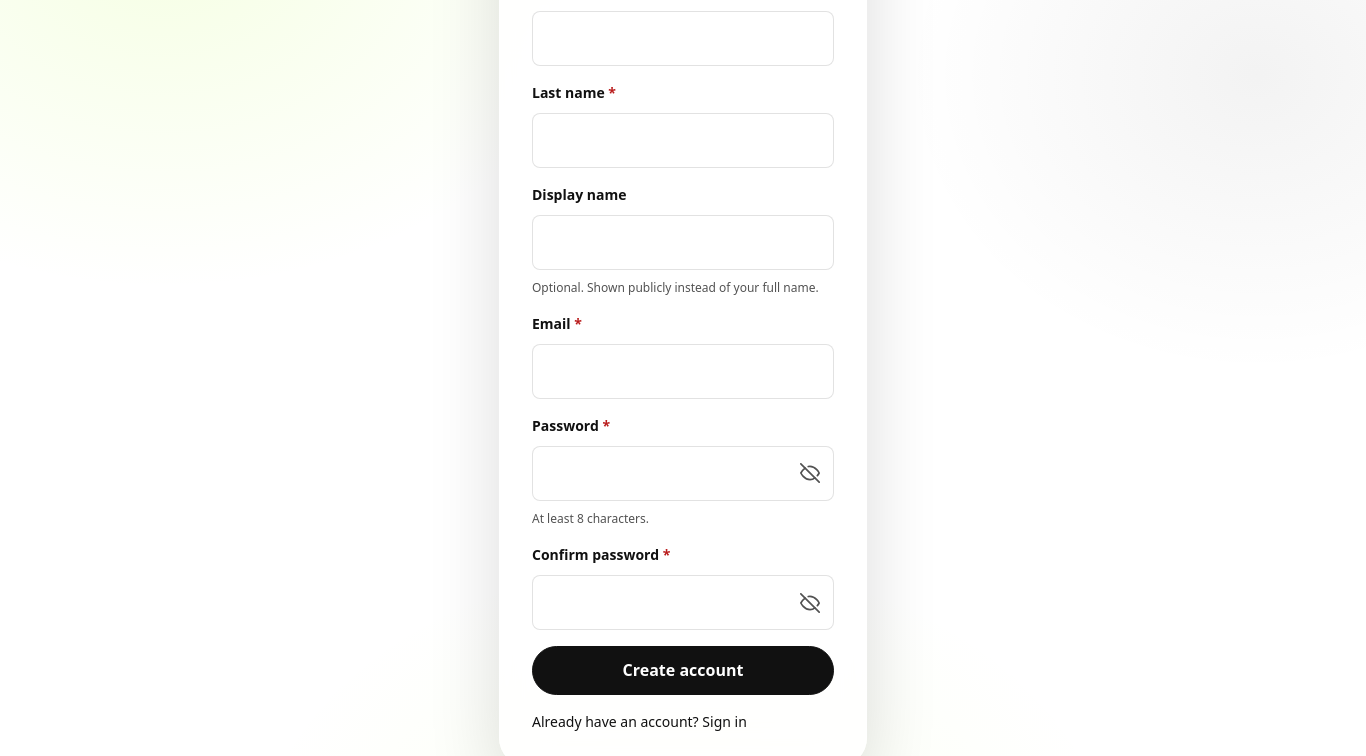
Test: RegisterPage password visibility toggle › password matching validation still works after toggling visibility
(page scrolled)
Type "abc12345" into the password field labelled "Password *" at (683, 474), box top-left (532, 446), bottom-right (834, 501)
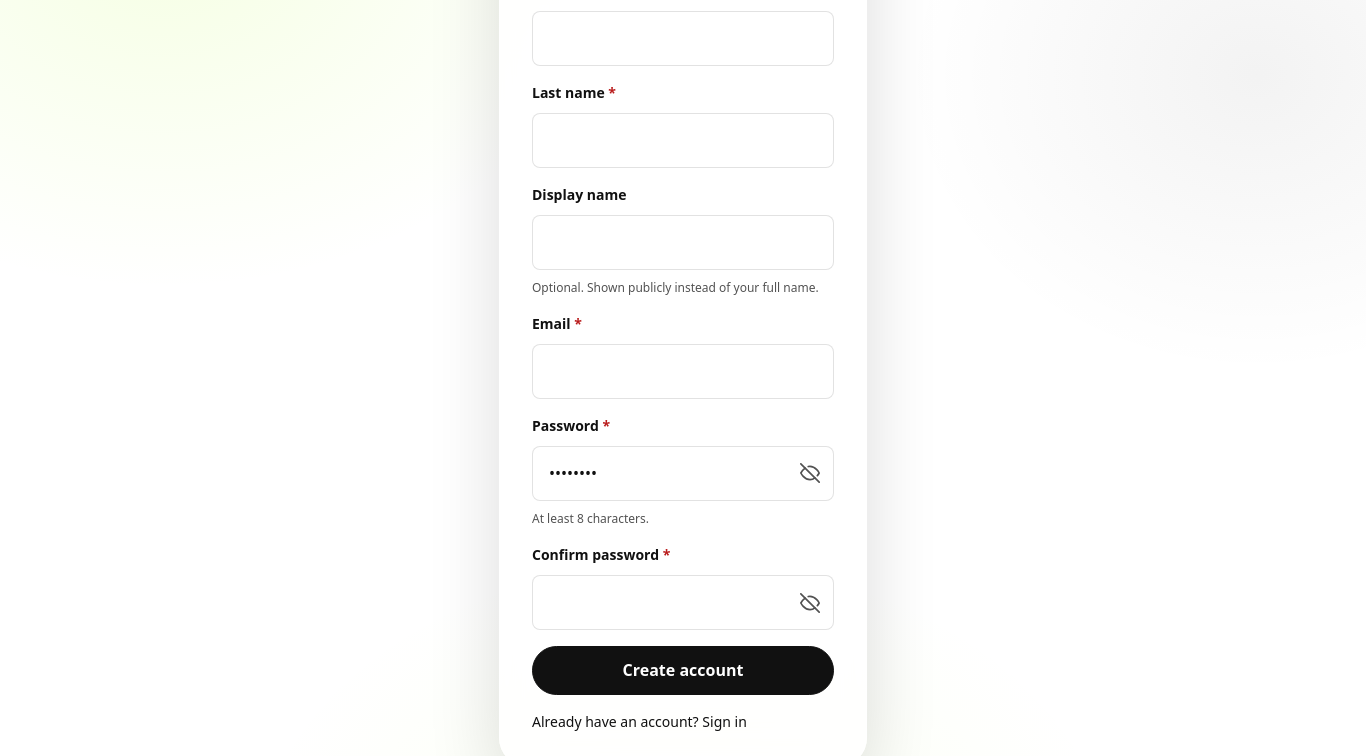
Type "xyz99999" into the password field labelled "Confirm password *" at (683, 603), box top-left (532, 575), bottom-right (834, 630)
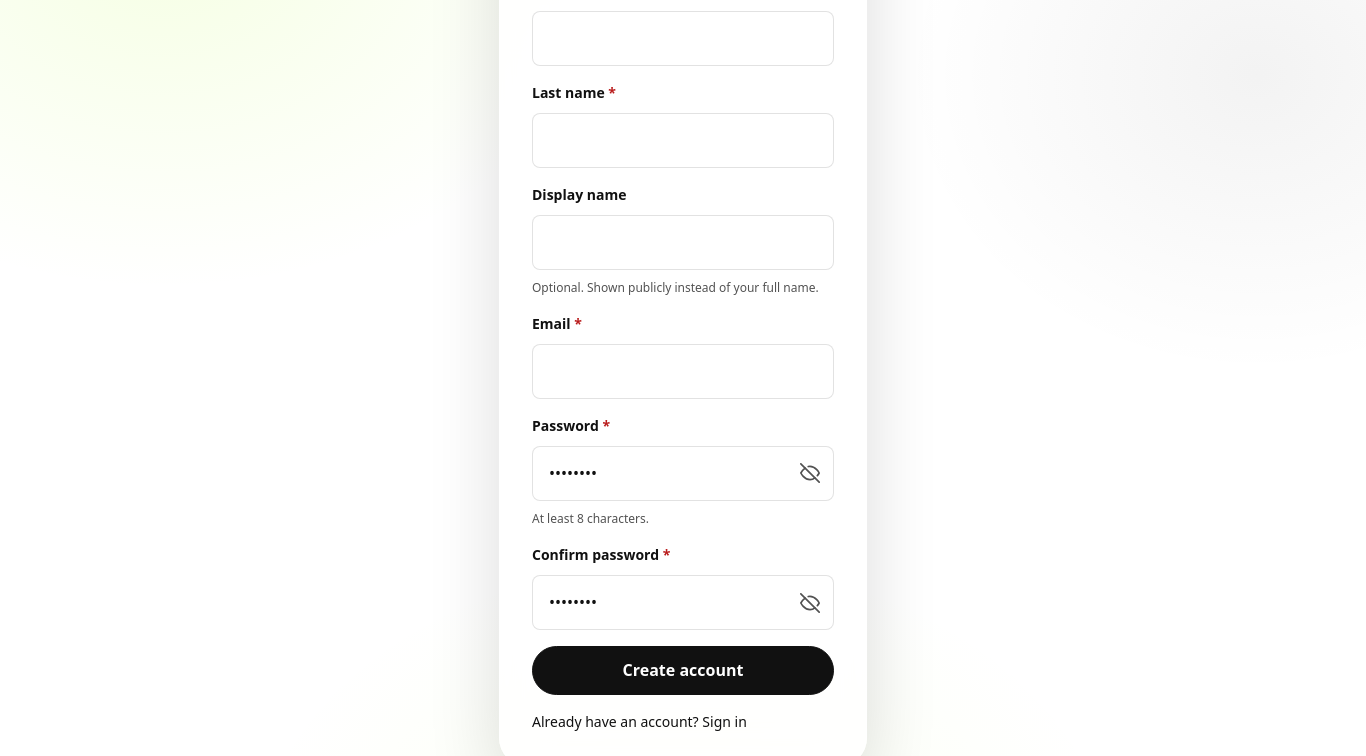
Click the button "Create account" at (683, 671), box top-left (532, 646), bottom-right (834, 695)
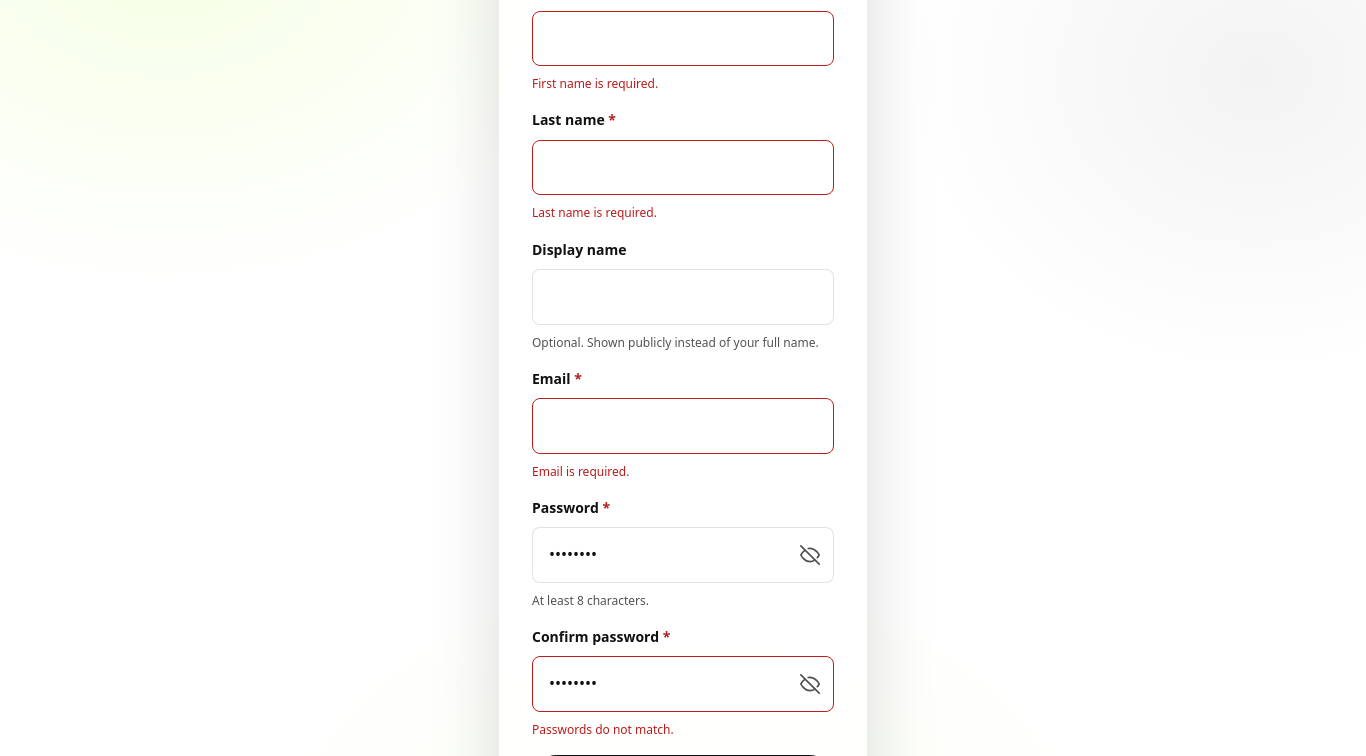
Now the text "Passwords do not match." is shown, box top-left (532, 721), bottom-right (674, 738)
